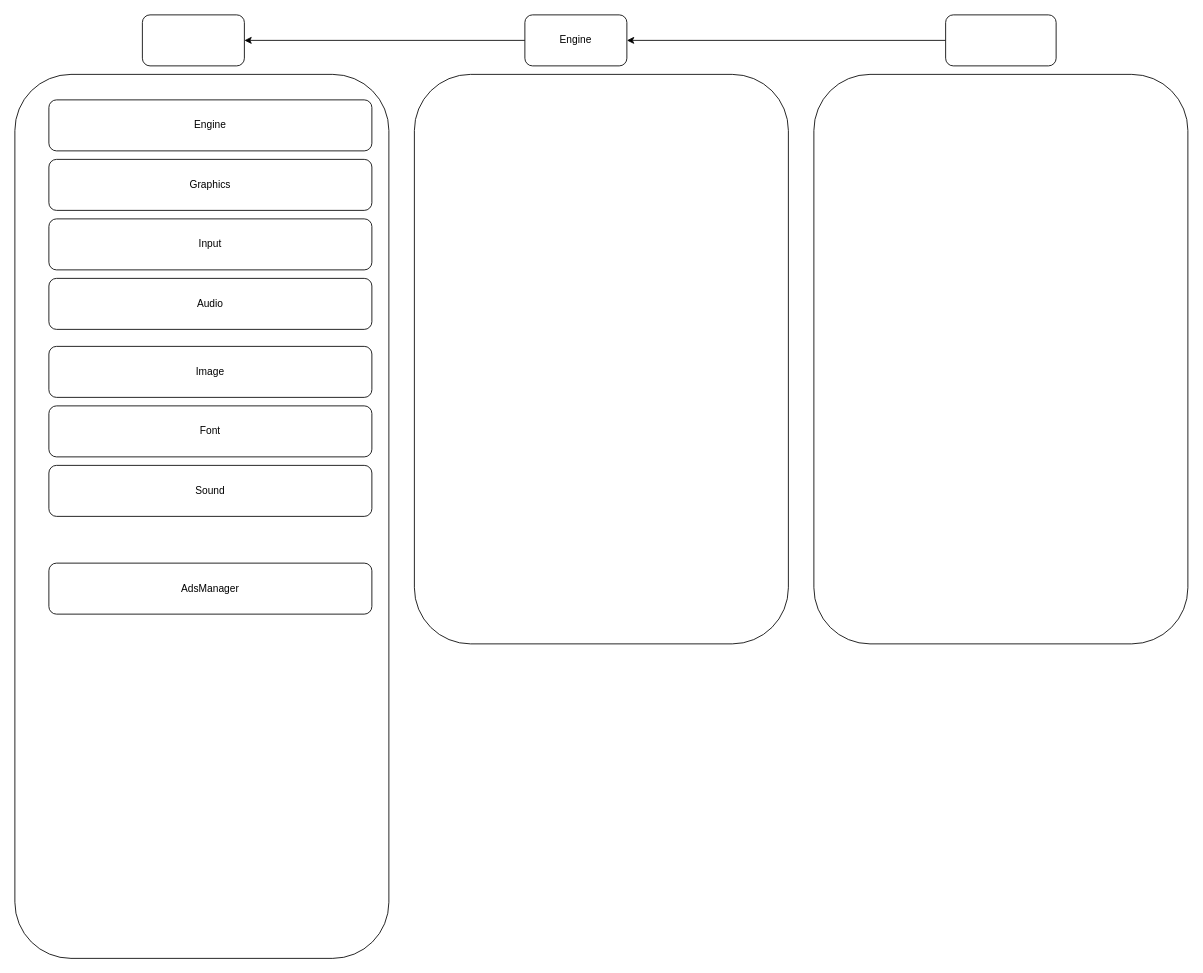
This 1203x973 diagram has some shape labels left out. The centre of each missing label's shape, as x and y in pixels:
"AndroidEngine" belongs at pixel 193 40.
"Logic" belongs at pixel 1000 40.
